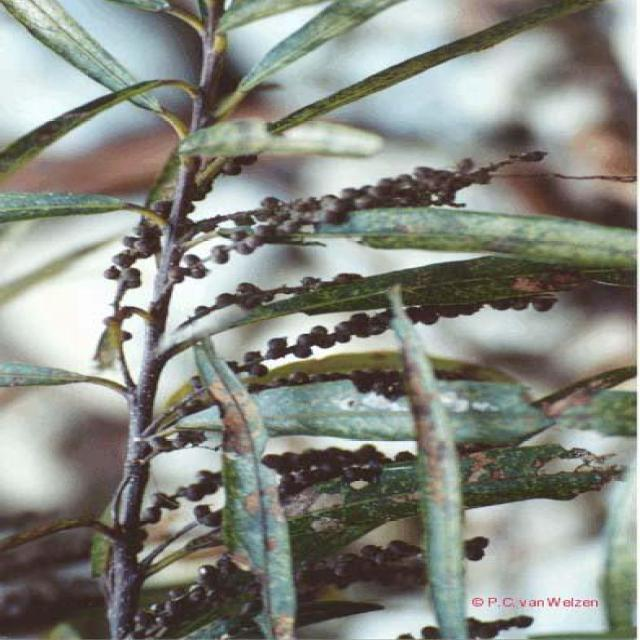Black Scale: (171, 151, 546, 283), (93, 156, 256, 390), (176, 272, 363, 339), (236, 310, 388, 376), (262, 444, 414, 504), (300, 541, 425, 601), (140, 470, 220, 550), (251, 371, 407, 410), (407, 295, 557, 324)
